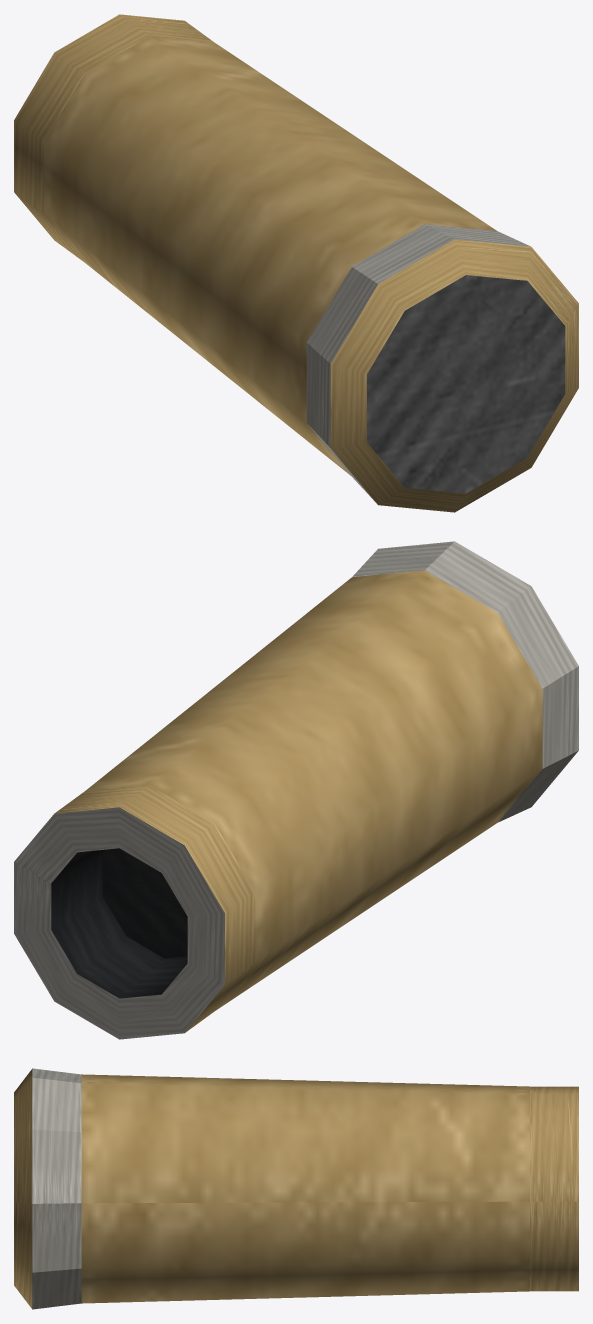
File: Douille.glb
3 renders of one model, top to bottom at view 1: azimuth 30°, elevation 25°; view 2: azimuth 150°, elevation 25°; view 3: azimuth 270°, elevation 25°, orthographic. The views are drawn at different scales.
Parts seen in each view (by area): view 1: Douille; view 2: Douille; view 3: Douille.
Part boxes in pixels (box(x1,y1,x2,y2)): Douille: box(14, 14, 578, 512); Douille: box(14, 541, 578, 1039); Douille: box(14, 1068, 578, 1309).
Bounding box in the file's own units: 0.038 × 0.04 × 0.092.
1 material, 1 textured.
